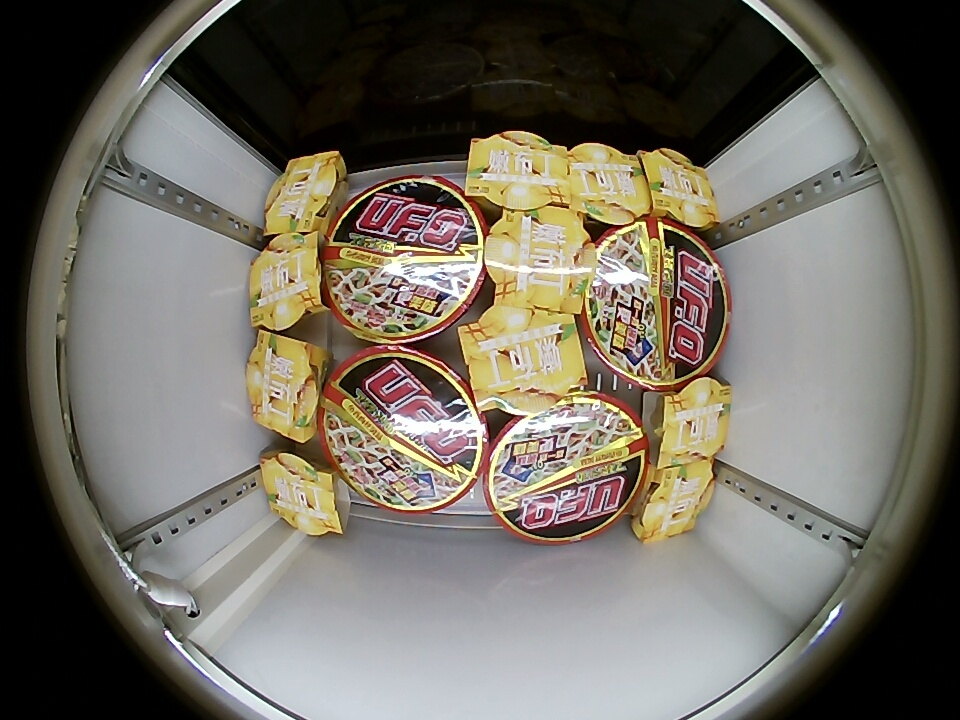buding: (458, 307, 588, 416), (485, 206, 596, 312), (246, 330, 327, 442), (464, 131, 572, 212), (260, 445, 345, 536), (249, 231, 325, 331), (652, 377, 733, 466), (632, 459, 715, 543), (264, 151, 345, 236), (569, 143, 651, 225), (640, 148, 719, 232)
ufo2: (319, 345, 488, 514), (321, 175, 486, 344), (580, 217, 731, 391), (483, 390, 648, 545)
